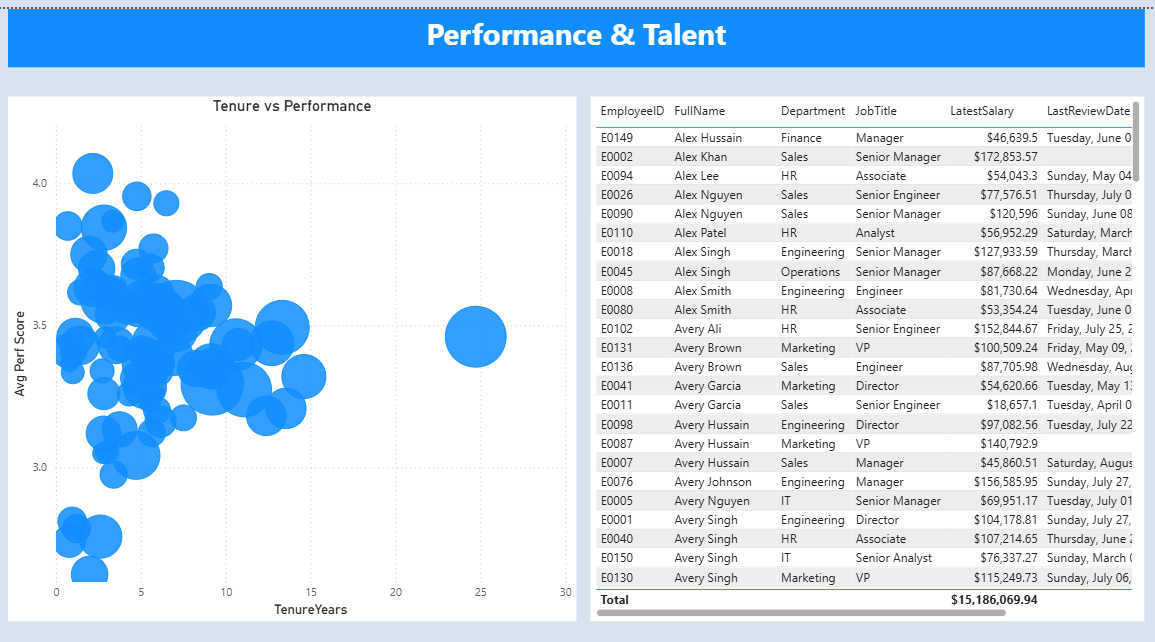

Layout of this report page (visuals, bound fields, positions):
{"tool":"powerbi","page":{"name":"Performance & Talent","canvas":[1280,720],"ordinal":2},"visuals":[{"type":"textbox","box":[16,0,1248,64],"z":0},{"type":"scatterChart","title":"Tenure vs Performance","fields":{"Category":["dim_employee.FullName"],"X":["Sum(dim_employee.TenureYears)"],"Y":["dim_employee.Avg Perf Score"],"Size":["Sum(dim_employee.BaseSalary)"]},"box":[16,96,624,576],"z":1000},{"type":"tableEx","fields":{"Values":["dim_employee.EmployeeID","dim_employee.FullName","dim_employee.Department","dim_employee.JobTitle","Sum(dim_employee.LatestKnownSalary)","dim_employee.LastReviewDate","dim_employee.Avg Perf Score"]},"box":[656,96,608,576],"z":2000}]}

Visuals, with their boxes in screenshot pixels (x1, y1, x2, y2), scaled from the page's 1280x720 canvas onto the 1155x642 screenshot:
textbox: {"left": 14, "top": 0, "right": 1141, "bottom": 57}
"Tenure vs Performance" scatterChart: {"left": 14, "top": 86, "right": 578, "bottom": 599}
tableEx - dim_employee.EmployeeID x dim_employee.FullName: {"left": 592, "top": 86, "right": 1141, "bottom": 599}
